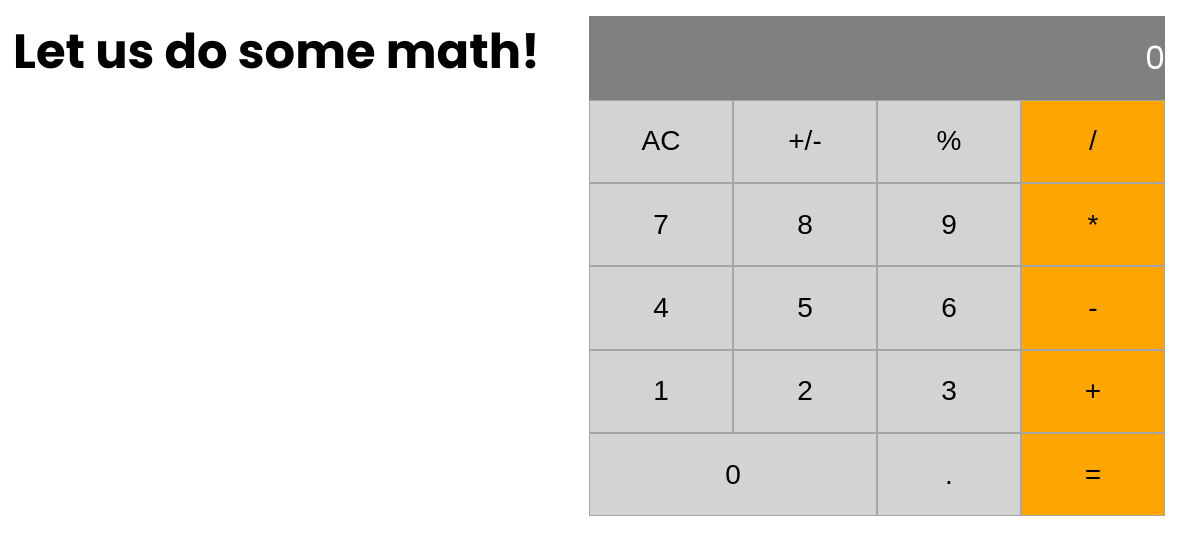
Calculator › should append the clicked number to the display
This screenshot has width=1182, height=533.
Click the button "9": (949, 224) [877, 183, 1021, 266]
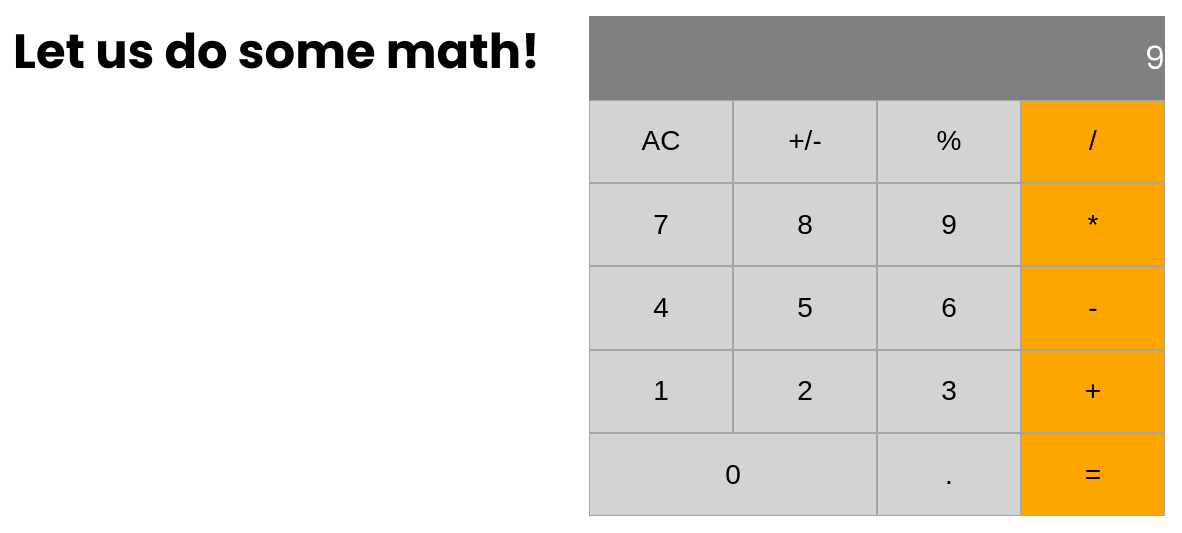
Now the text with test id "displayElement" reads "9", box [1145, 35, 1165, 80]
